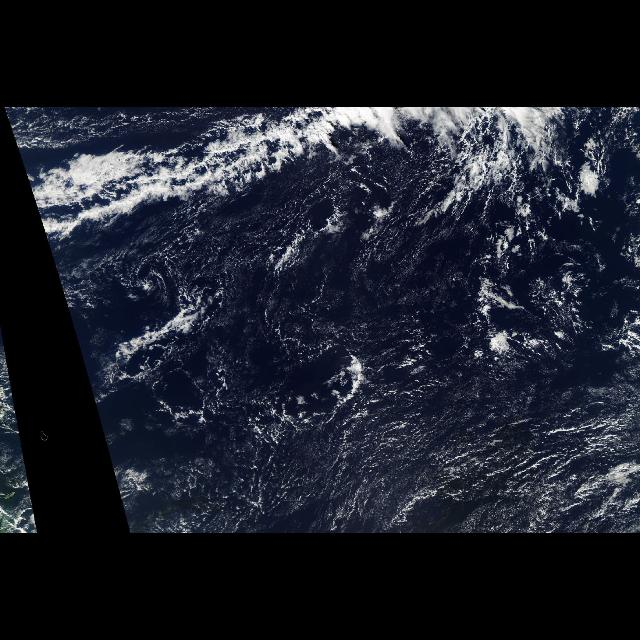Fish: (11, 113, 584, 235)
Gravel: (115, 344, 368, 444)
Sugar: (144, 366, 636, 524)
